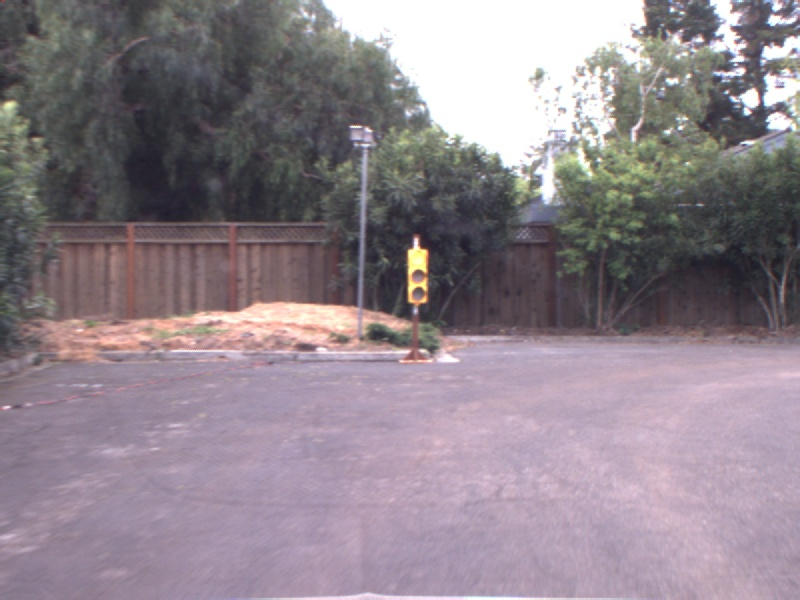red: (402, 241, 433, 308)
